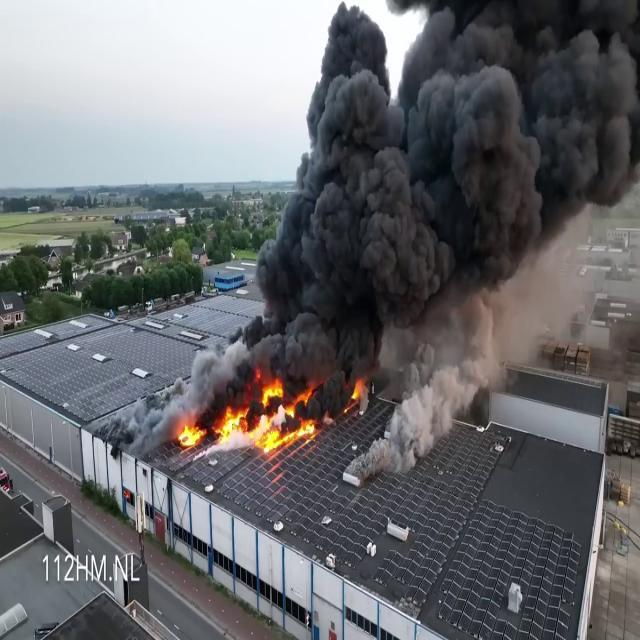Fire: (176, 371, 315, 454)
Smoke: (165, 0, 640, 439), (361, 324, 503, 486)
